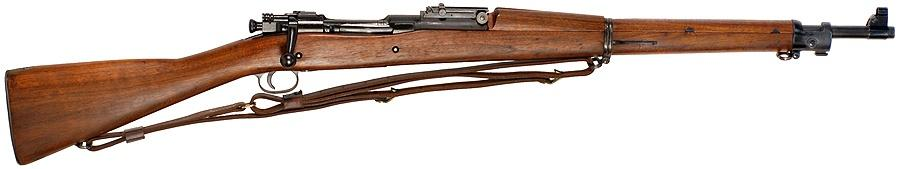blood: (5, 1, 900, 169)
